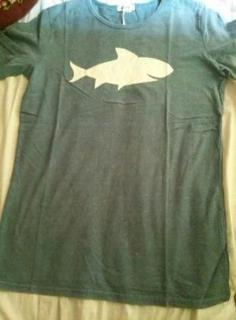short sleeve top: (0, 0, 236, 308)
